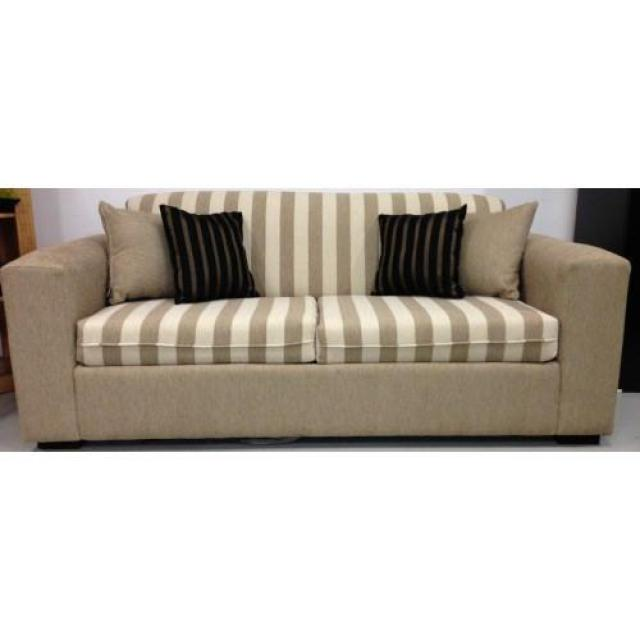sofa: (0, 187, 630, 444)
